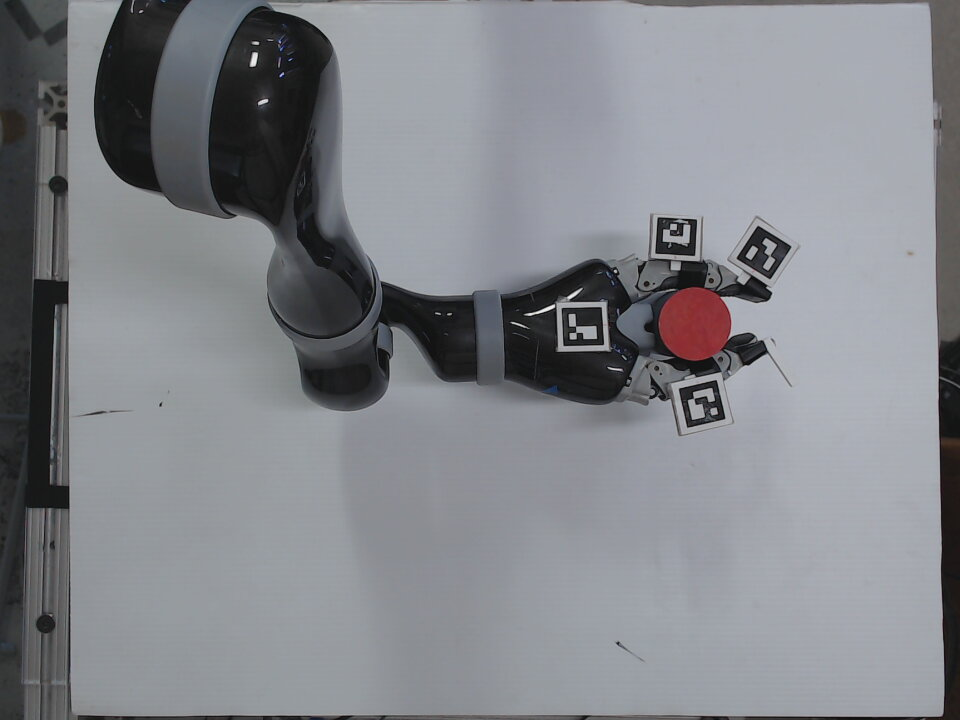cylinder: (654, 285, 736, 363)
